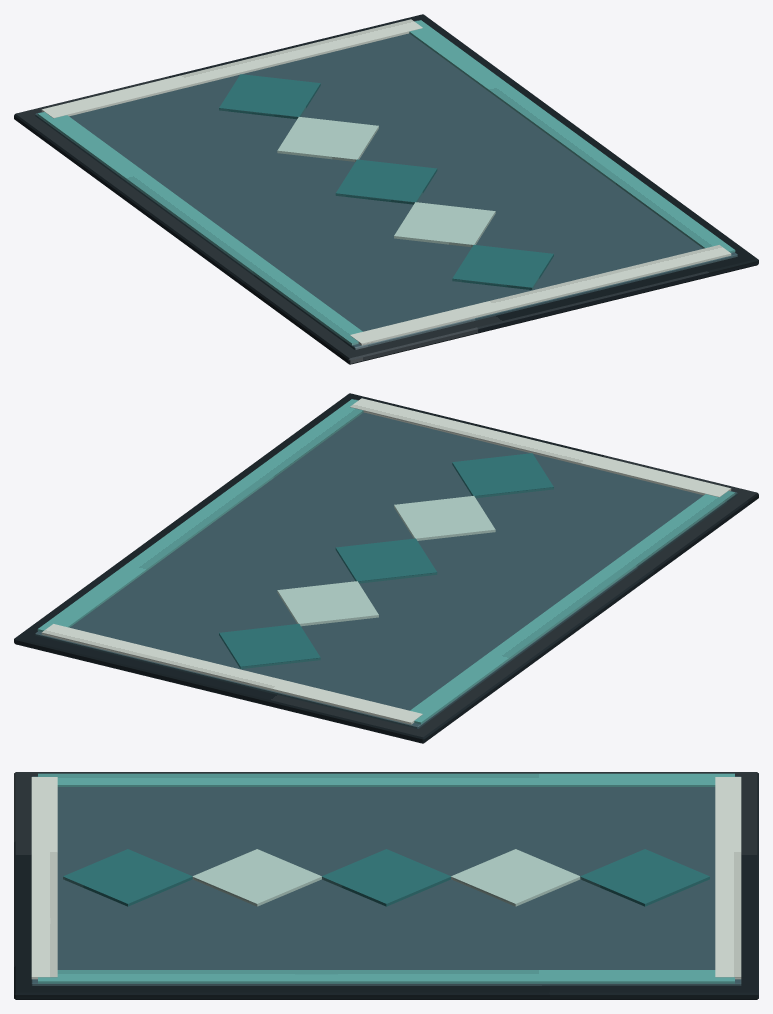
The model's file is corridor_carpet_teal.glb.
3 views of the same model, one above another, from view 1: azimuth 30°, elevation 25°; view 2: azimuth 150°, elevation 25°; view 3: azimuth 270°, elevation 25° (orthographic). The views are drawn at different scales.
Visible parts, largest first — view 1: RunnerField, TextileBase, LongBorder_-1.06, LongBorder_1.06, EndBand_-1.56, EndBand_1.56, RunnerDiamond_0, RunnerDiamond_2, RunnerDiamond_3, RunnerDiamond_4, RunnerDiamond_1; view 2: RunnerField, TextileBase, LongBorder_-1.06, LongBorder_1.06, EndBand_1.56, EndBand_-1.56, RunnerDiamond_4, RunnerDiamond_2, RunnerDiamond_1, RunnerDiamond_0, RunnerDiamond_3; view 3: RunnerField, TextileBase, LongBorder_1.06, LongBorder_-1.06, EndBand_1.56, EndBand_-1.56, RunnerDiamond_0, RunnerDiamond_1, RunnerDiamond_4, RunnerDiamond_3, RunnerDiamond_2.
Part boxes in pixels (box(x1,y1,x2,y2)): RunnerField: box(35, 20, 737, 349); TextileBase: box(14, 14, 758, 364); LongBorder_-1.06: box(37, 112, 362, 345); LongBorder_1.06: box(409, 20, 735, 252); EndBand_-1.56: box(350, 245, 731, 345); EndBand_1.56: box(41, 19, 422, 118); RunnerDiamond_0: box(452, 245, 553, 289); RunnerDiamond_2: box(335, 159, 437, 204); RunnerDiamond_3: box(277, 117, 378, 161); RunnerDiamond_4: box(219, 74, 320, 119); RunnerDiamond_1: box(394, 202, 495, 247); RunnerField: box(35, 399, 737, 728); TextileBase: box(14, 393, 758, 743); LongBorder_-1.06: box(410, 491, 735, 724); LongBorder_1.06: box(37, 399, 363, 631); EndBand_1.56: box(41, 624, 422, 724); EndBand_-1.56: box(350, 398, 731, 497); RunnerDiamond_4: box(219, 624, 320, 668); RunnerDiamond_2: box(335, 538, 437, 583); RunnerDiamond_1: box(394, 496, 495, 540); RunnerDiamond_0: box(452, 453, 553, 498); RunnerDiamond_3: box(277, 581, 378, 626); RunnerField: box(31, 776, 741, 985); TextileBase: box(14, 772, 758, 999); LongBorder_1.06: box(38, 970, 734, 983); LongBorder_-1.06: box(38, 773, 734, 786); EndBand_1.56: box(715, 777, 741, 979); EndBand_-1.56: box(31, 777, 57, 979); RunnerDiamond_0: box(63, 849, 192, 906); RunnerDiamond_1: box(192, 849, 321, 906); RunnerDiamond_4: box(580, 849, 709, 906); RunnerDiamond_3: box(451, 849, 580, 906); RunnerDiamond_2: box(322, 849, 450, 906).
Bounding box in the file's own units: 2.4 × 0.066 × 3.4.
Materials: 1 (1 with a texture image).
